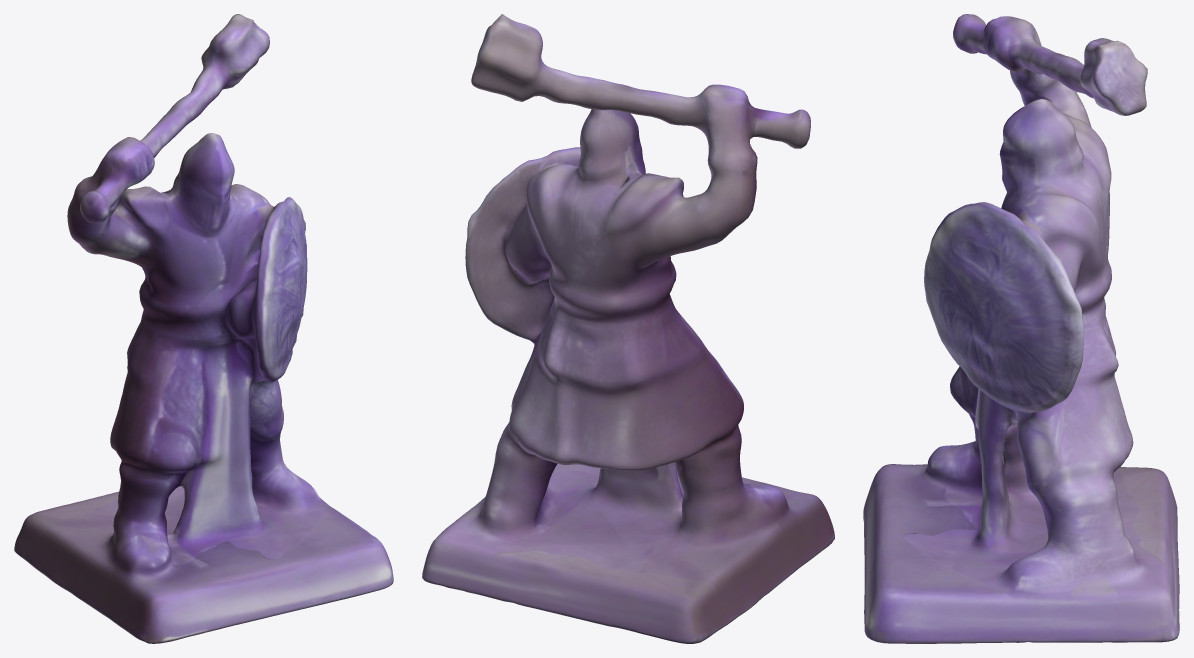
The model's file is cleric.glb.
The picture shows the model from 3 angles, left to right: view 1: azimuth 30°, elevation 25°; view 2: azimuth 150°, elevation 25°; view 3: azimuth 270°, elevation 25°; orthographic projection. The views are drawn at different scales.
Parts seen in each view (by area): view 1: Mesh_0; view 2: Mesh_0; view 3: Mesh_0.
Boxes of the visible parts, box(x1,y1,x2,y2) form: Mesh_0: box(14, 14, 393, 643); Mesh_0: box(422, 14, 834, 643); Mesh_0: box(863, 14, 1179, 643).
Size of the model in its own units: 1.13 by 2 by 0.999.
Materials: 1 (1 with a texture image).
